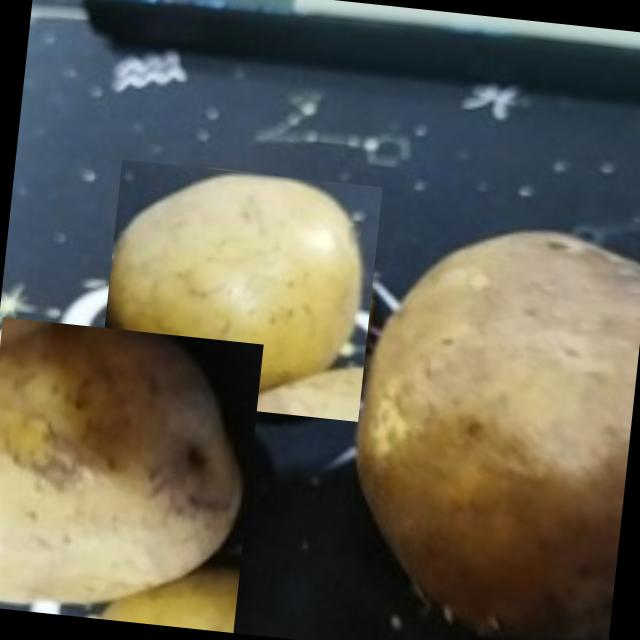Damaged potato: (326, 210, 640, 640), (0, 316, 263, 632)
Potato: (97, 160, 382, 422)
